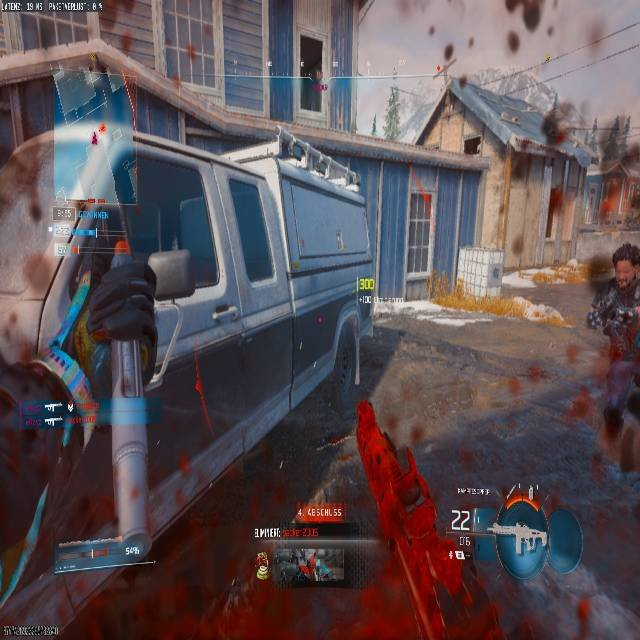head: (611, 243, 640, 289), (277, 131, 294, 150)
player: (64, 235, 163, 549), (584, 244, 639, 475), (274, 127, 359, 188)
